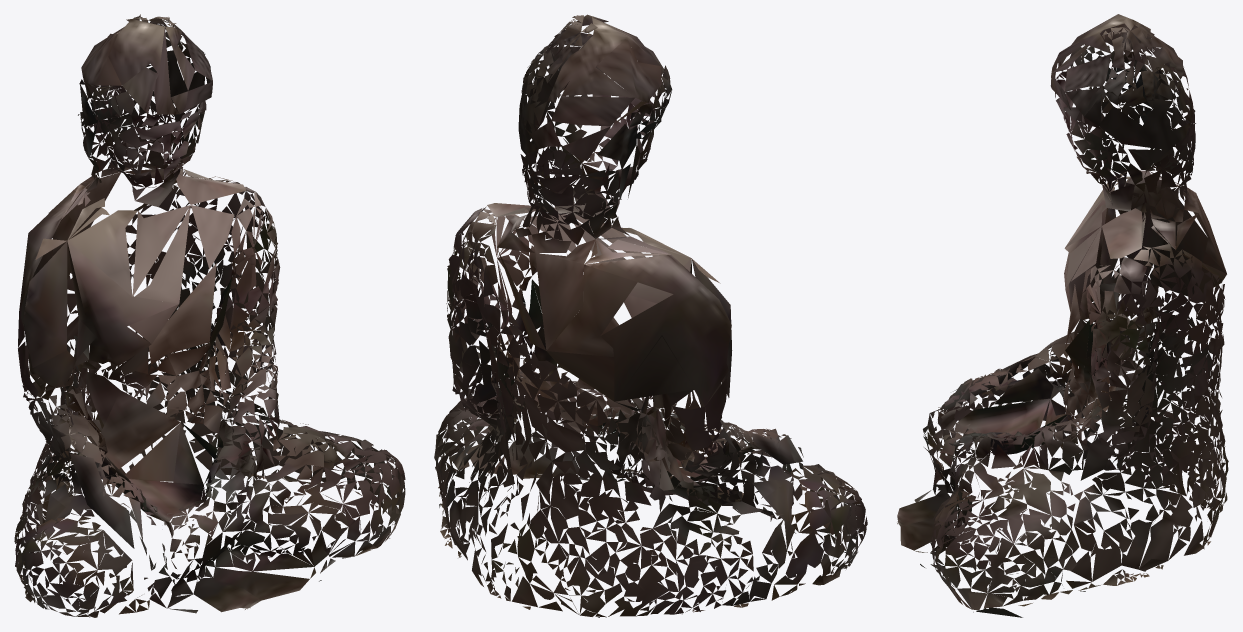
File: far.glb
3 views of the same model, side by side, from view 1: azimuth 30°, elevation 25°; view 2: azimuth 150°, elevation 25°; view 3: azimuth 270°, elevation 25° (orthographic). The views are drawn at different scales.
Visible parts, largest first — view 1: statue-060; view 2: statue-060; view 3: statue-060.
Boxes of the visible parts, box(x1,y1,x2,y2) form: statue-060: box(14, 14, 405, 617); statue-060: box(434, 14, 867, 617); statue-060: box(897, 14, 1228, 617).
Bounding box in the file's own units: 0.7615 × 0.994 × 0.5865.
1 material, 1 textured.
